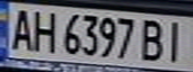3: (78, 11, 100, 57)
6: (57, 10, 84, 56)
7: (115, 15, 142, 61)
9: (97, 12, 118, 59)
A: (3, 6, 36, 52)
B: (136, 17, 172, 62)
H: (27, 8, 60, 54)
I: (160, 18, 193, 63)
